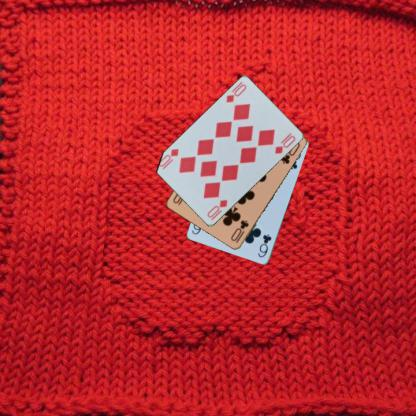10c: (228, 218, 250, 244)
10d: (204, 197, 229, 222), (224, 81, 247, 104)
6c: (255, 232, 273, 259)
